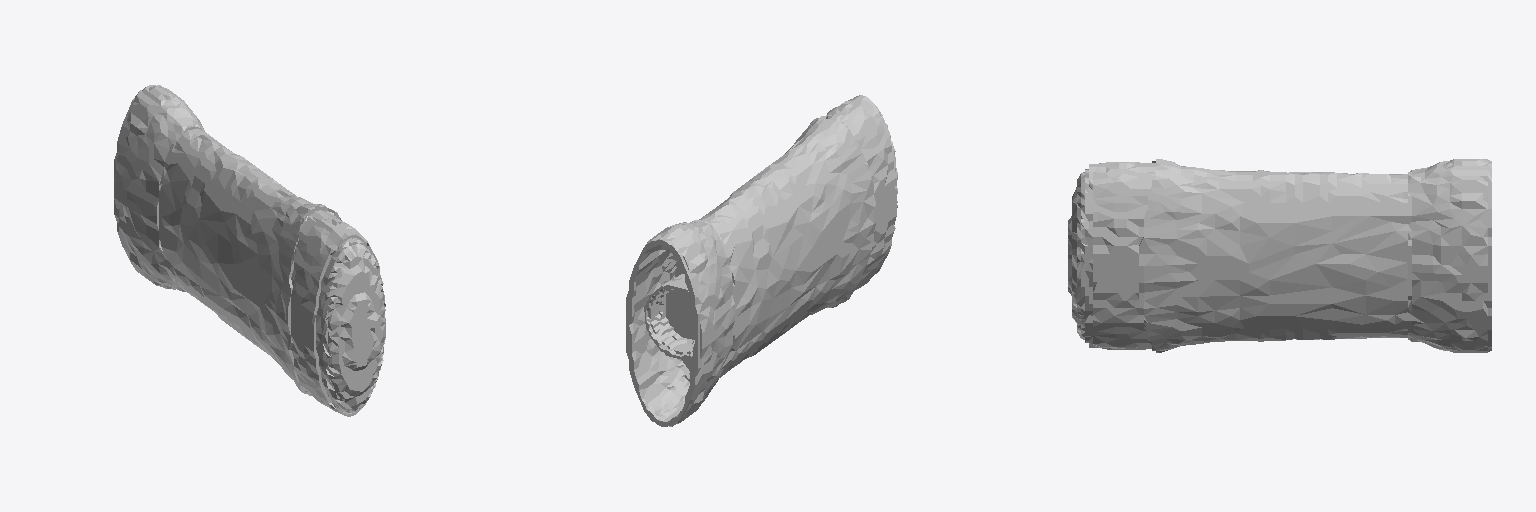
Rendered from tinker.obj.
3 renders of one model, left to right at view 1: azimuth 30°, elevation 25°; view 2: azimuth 150°, elevation 25°; view 3: azimuth 270°, elevation 25°, orthographic.
Visible parts, largest first — view 1: obj_0.015; view 2: obj_0.015; view 3: obj_0.015.
Boxes of the visible parts, box(x1,y1,x2,y2) form: obj_0.015: box(114, 85, 385, 416); obj_0.015: box(626, 95, 897, 426); obj_0.015: box(1068, 159, 1491, 352).
Bounding box in the file's own units: 2.5 × 6 × 12.